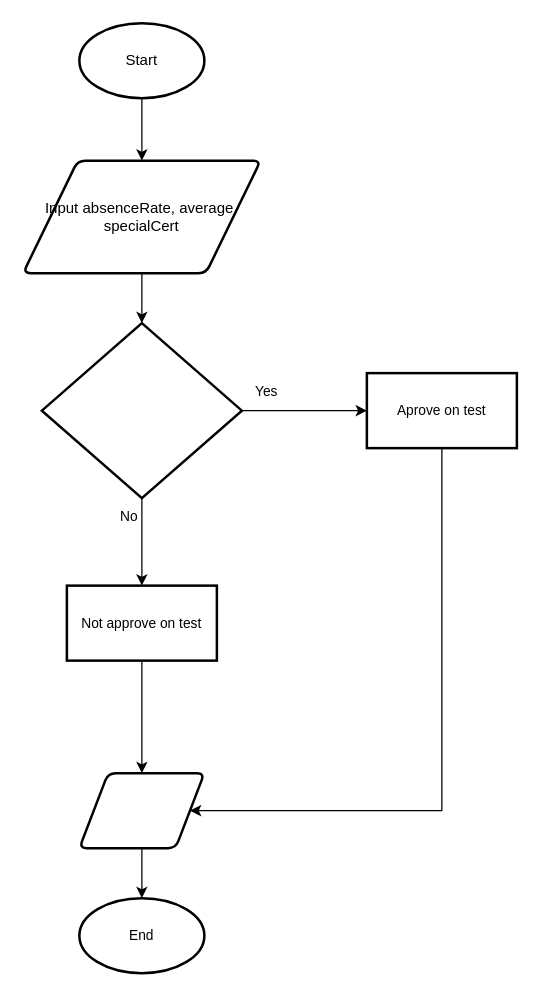
Some shapes in this 539 by 995 pixel diagram are drawn without their labels. Each missing label, with the centre of its shape:
(absenceRate > 80% AND average >=5) OR specialCert: the point at 141,410
Notifiy on console: the point at 141,810
